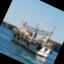fishing boat: (5, 6, 64, 61)
